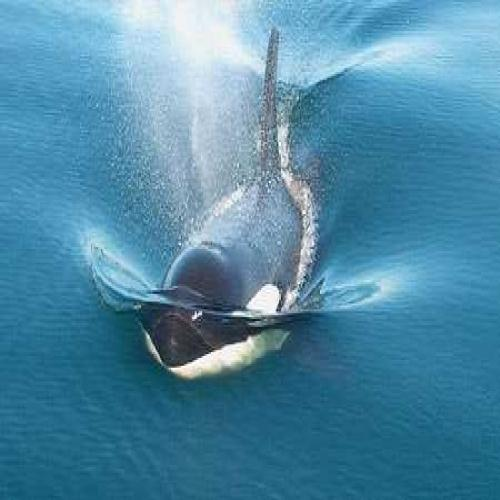killer_whale-endangered: (102, 23, 382, 411)
